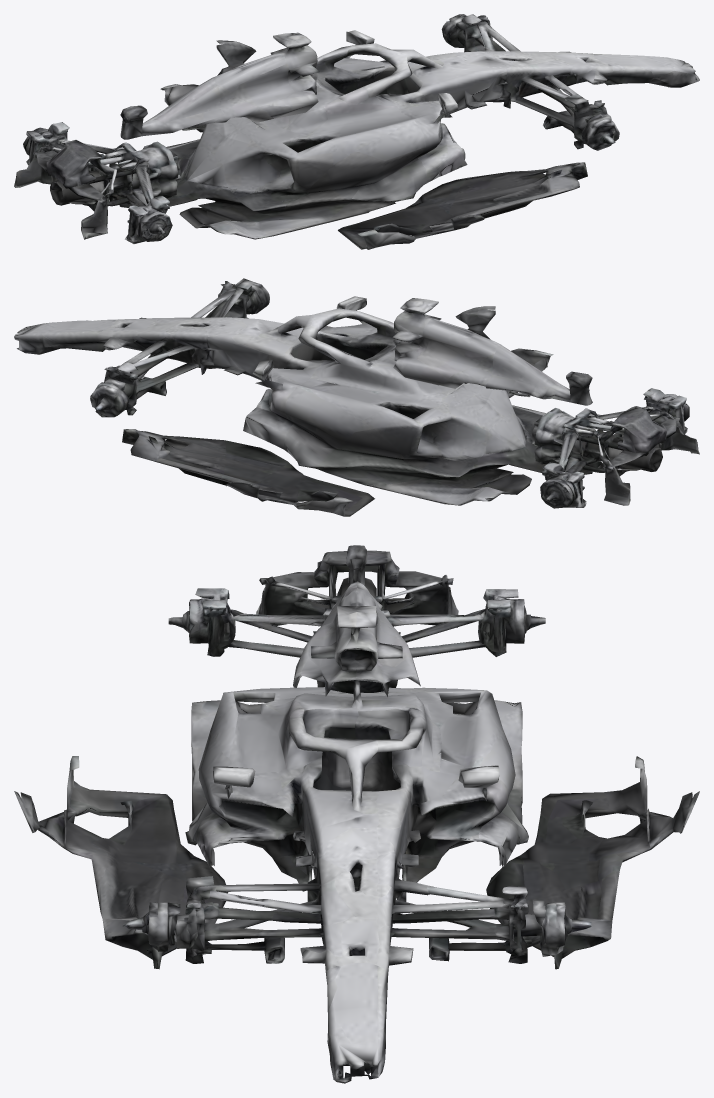
File: coche_desarmado.glb
The picture shows the model from 3 angles, top to bottom: view 1: azimuth 30°, elevation 25°; view 2: azimuth 150°, elevation 25°; view 3: azimuth 270°, elevation 25°; orthographic projection. The views are drawn at different scales.
Parts seen in each view (by area): view 1: tripo_node_472c7204-742d-431c-87c7-63d27f62fc2f; view 2: tripo_node_472c7204-742d-431c-87c7-63d27f62fc2f; view 3: tripo_node_472c7204-742d-431c-87c7-63d27f62fc2f.
Boxes of the visible parts, box(x1,y1,x2,y2) form: tripo_node_472c7204-742d-431c-87c7-63d27f62fc2f: box(14, 14, 699, 249); tripo_node_472c7204-742d-431c-87c7-63d27f62fc2f: box(14, 278, 699, 516); tripo_node_472c7204-742d-431c-87c7-63d27f62fc2f: box(14, 545, 699, 1083).
Size of the model in its own units: 5.63 by 1.22 by 3.67.
Materials: 1 (1 with a texture image).
